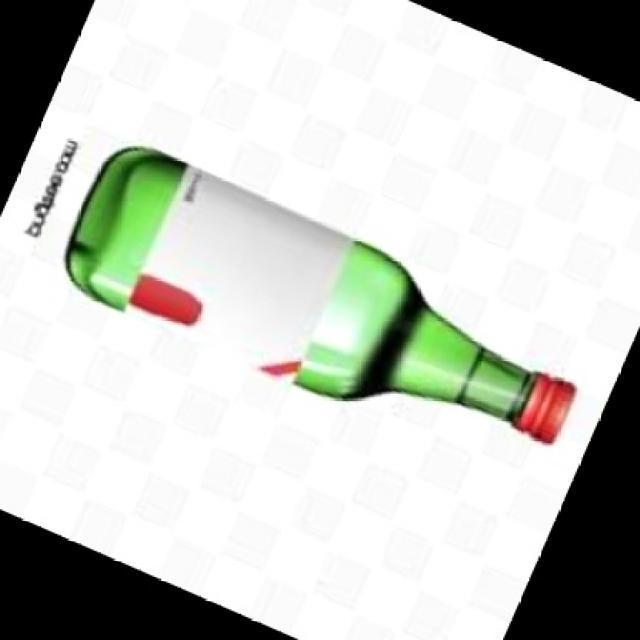Glass: (63, 146, 578, 447)
